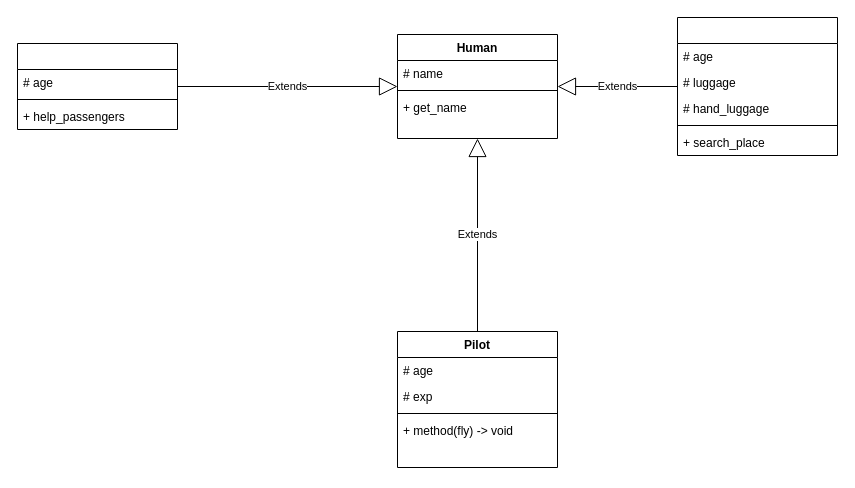
Some shapes in this 855 by 488 pixel diagram are drawn without their labels. Here are the shapes that lost their labels. From the top down, the box of each, then its label:
(16, 42, 178, 130): FlightAttendant
(676, 16, 838, 156): Passenger
